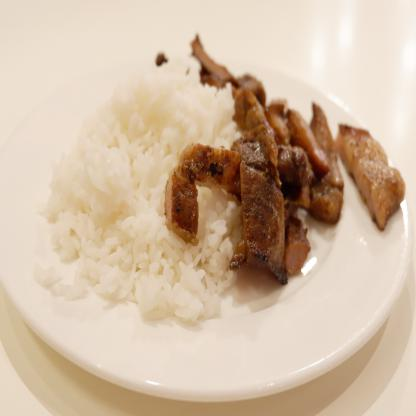Carne: (229, 57, 281, 285), (336, 114, 415, 230), (177, 133, 241, 230), (300, 109, 348, 208)
